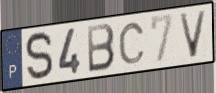4: (57, 26, 84, 77)
7: (149, 12, 177, 66)
B: (86, 22, 116, 75)
C: (117, 21, 147, 66)
S: (24, 30, 55, 84)
V: (177, 9, 209, 60)
